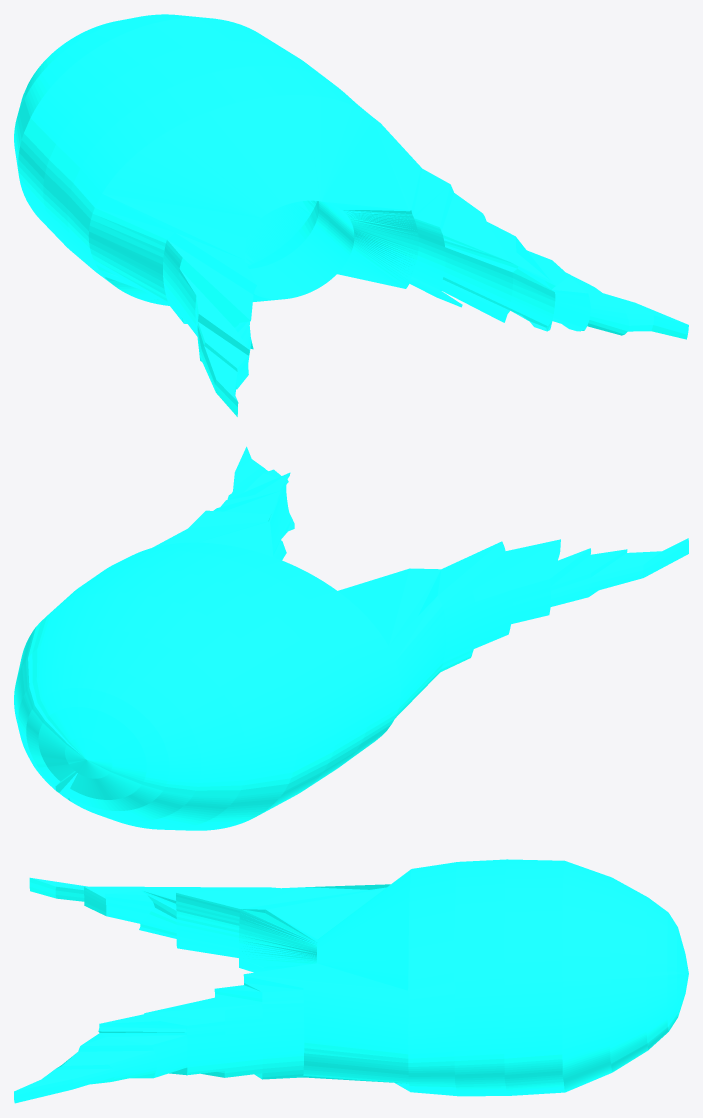
File: avatarmock-21.fbx
3 renders of one model, top to bottom at view 1: azimuth 30°, elevation 25°; view 2: azimuth 150°, elevation 25°; view 3: azimuth 270°, elevation 25°, orthographic. The views are drawn at different scales.
Parts seen in each view (by area): view 1: Circle.001; view 2: Circle.001; view 3: Circle.001.
Boxes of the visible parts, x1,y1,x2,y2 form: Circle.001: (14,14,688,416); Circle.001: (14,446,688,830); Circle.001: (14,859,688,1103).
Bounding box in the file's own units: 413 × 200 × 612.
